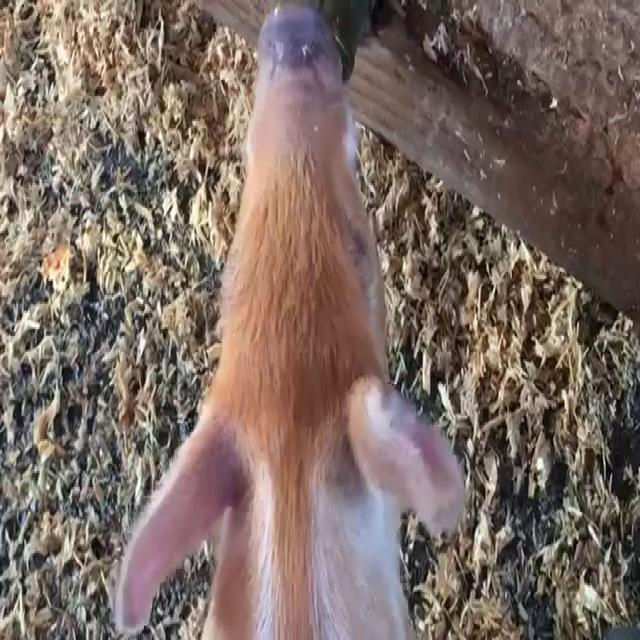pig: (115, 9, 462, 640)
